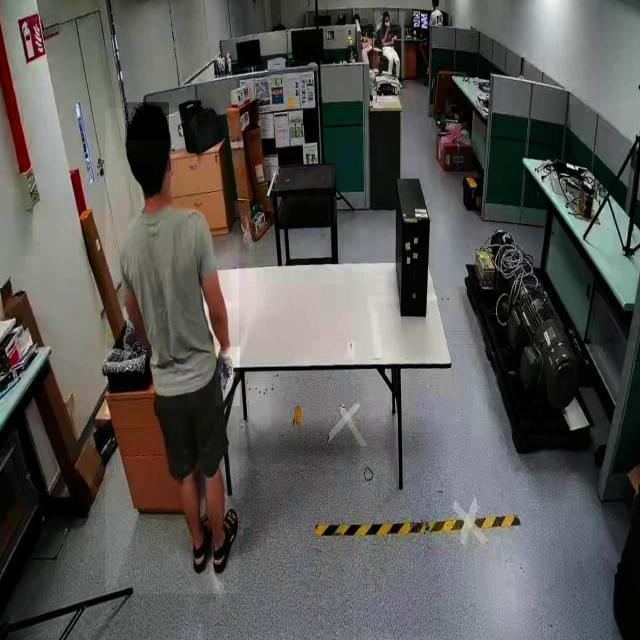gloves: (216, 347, 240, 407)
